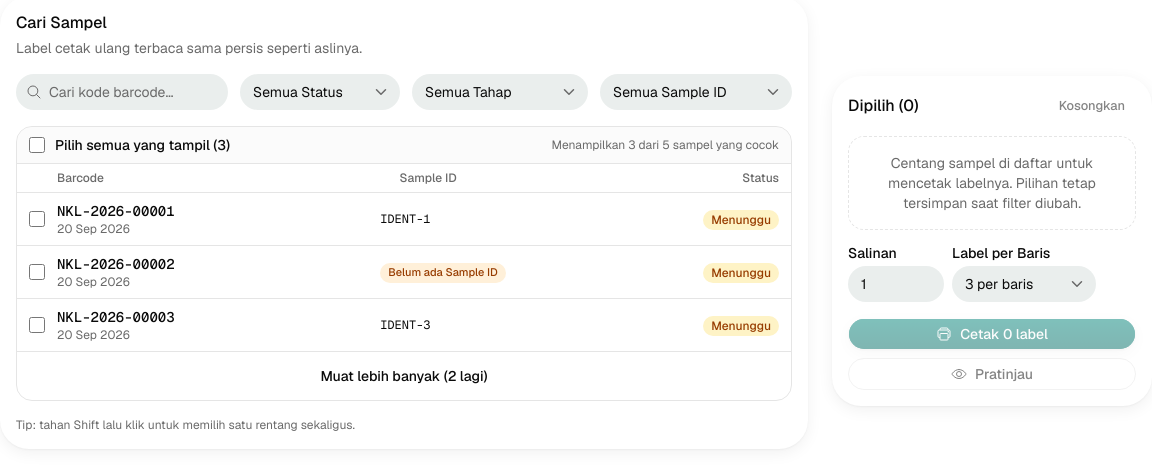
Scenario: LabelReprint › keeps the count and Print beside the list as rows are ticked
Expected: the text "NKL-2026-00001" is shown, [57,202,175,220]
Expected: the button "Cetak 0 label" is disabled, [848,318,1136,350]
Click the checkbox labelled "NKL-2026-00001 20 Sep 2026 IDENT-1 Menunggu" at (37,219), box [29,211,45,227]
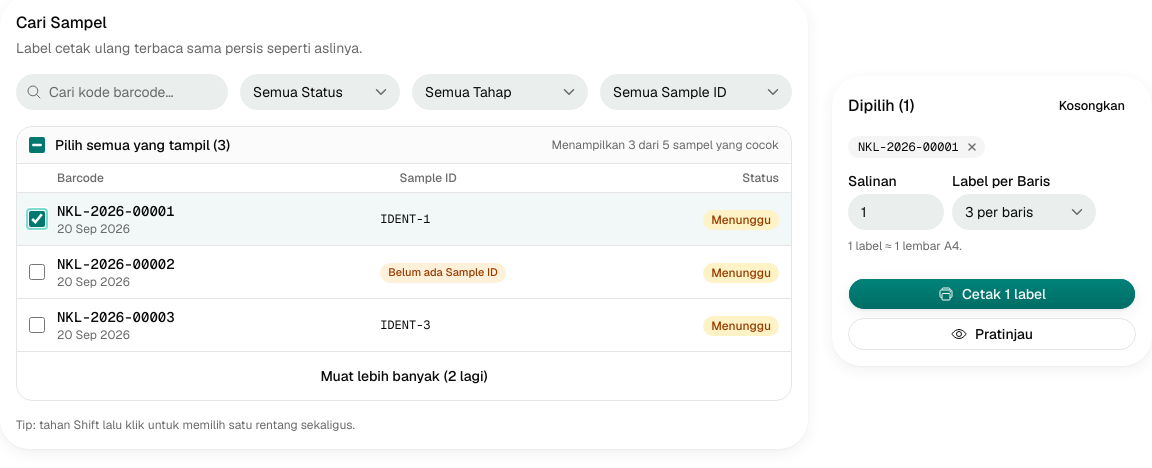
Click the checkbox labelled "NKL-2026-00002 20 Sep 2026 Belum ada Sample ID Menunggu" at (37,272), box [29,264,45,280]
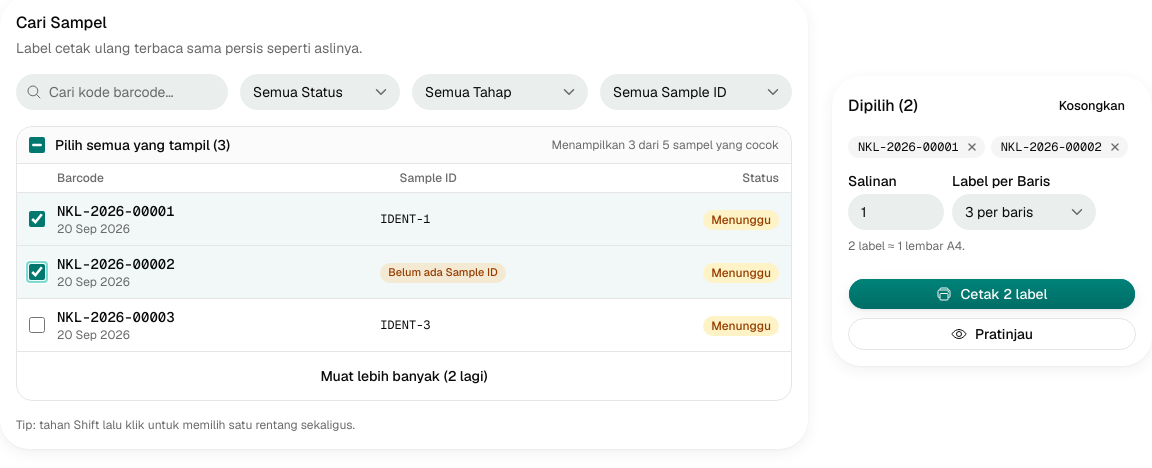
Expected: the text "Dipilih (2)" is shown, [848,95,918,117]
Click the button "Cetak 2 label" at (992,294), box [848,278,1136,310]
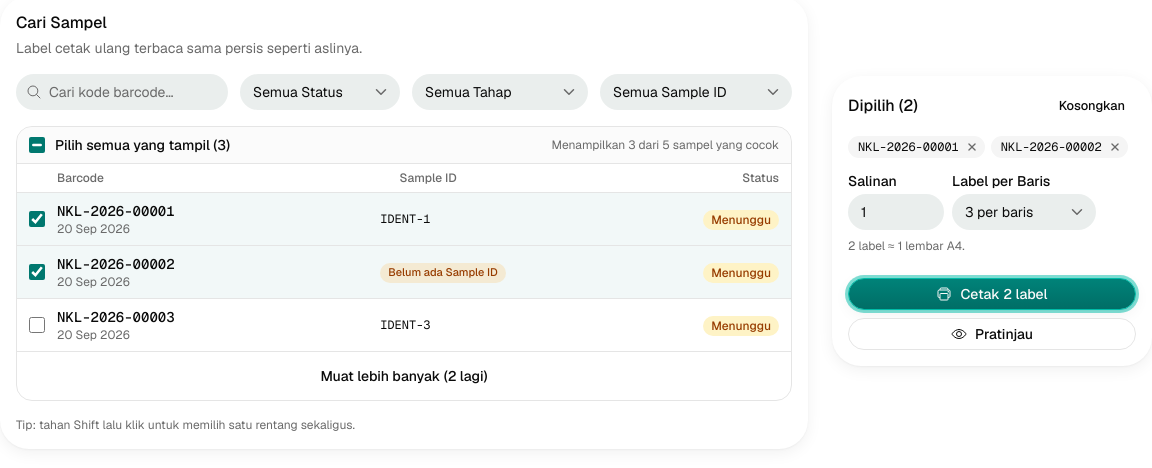
# Each chosen sample can be taken back out on its own.
Click the button named "Hapus NKL-2026-00001 dari pilihan" at (972,147), box [963,138,981,156]
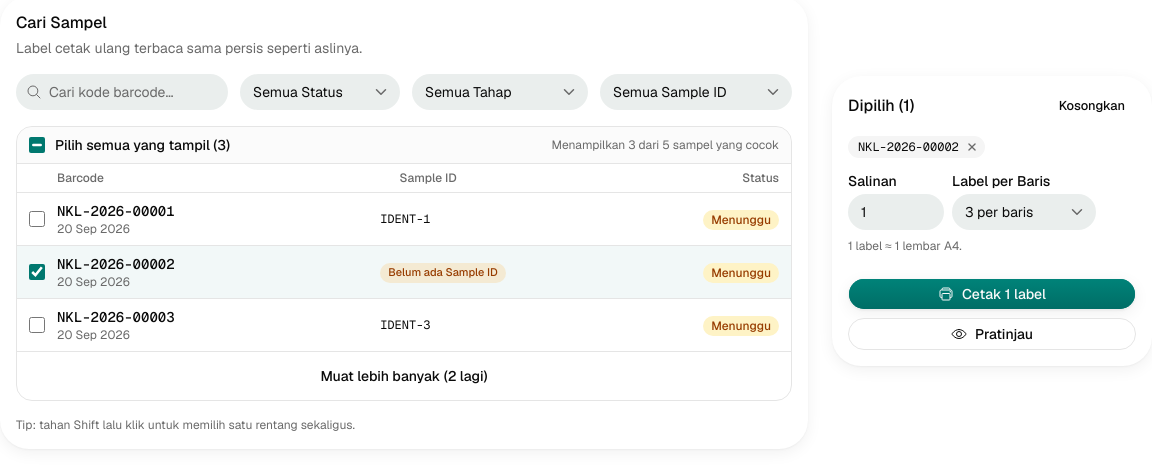
Expected: the text "Dipilih (1)" is shown, [848,95,914,117]
